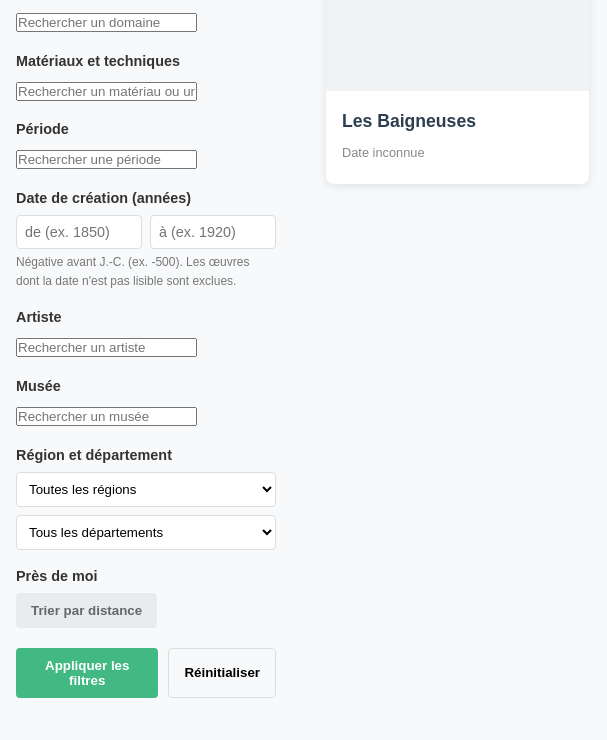
Scenario: SearchView : recherche géographique › « Près de moi » trie par distance depuis la position, arrondie, et la reporte dans l'adresse
(page scrolled)
Click the button with test id "near-me". click: click(87, 610)
box: [16,593,157,628]
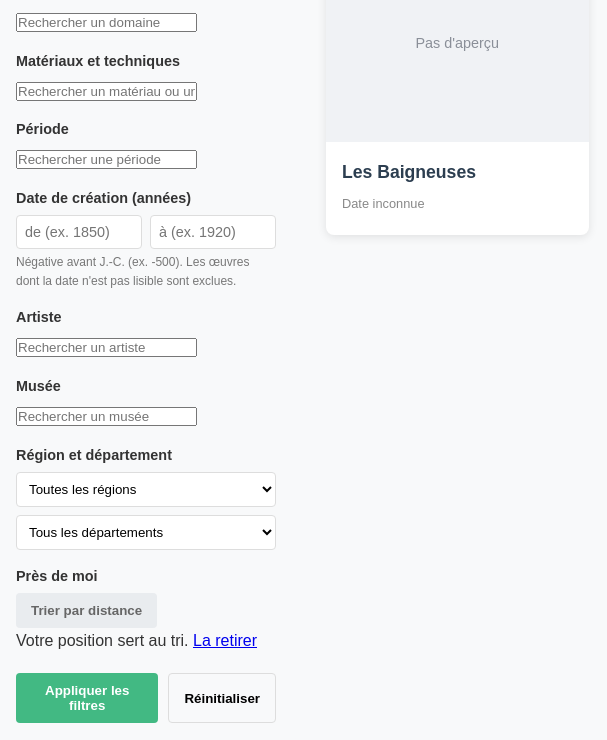
Expected: the element with test id "position-active" is shown, [16,628,276,653]
